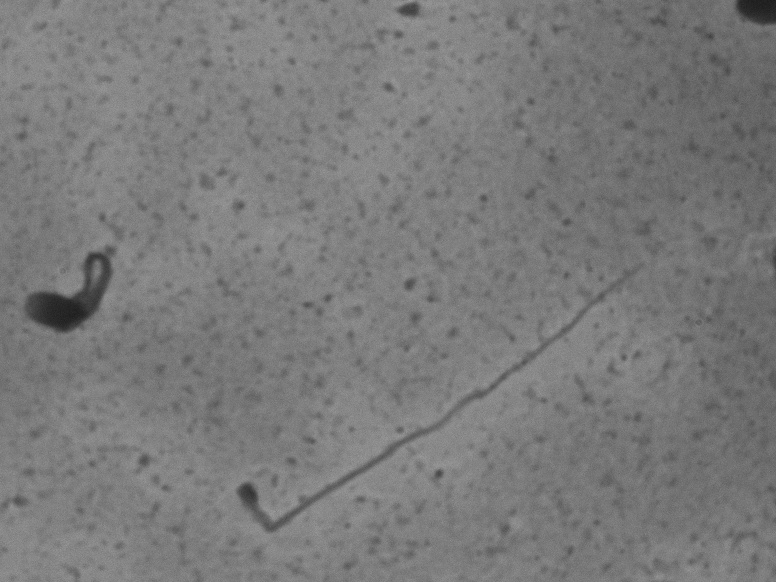Abnormal: (200, 260, 689, 542), (18, 229, 127, 349)
